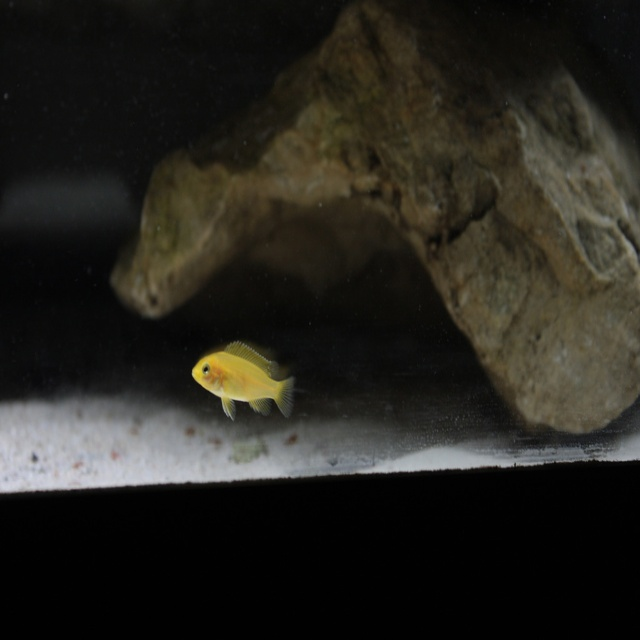Fish: (182, 340, 297, 423)
